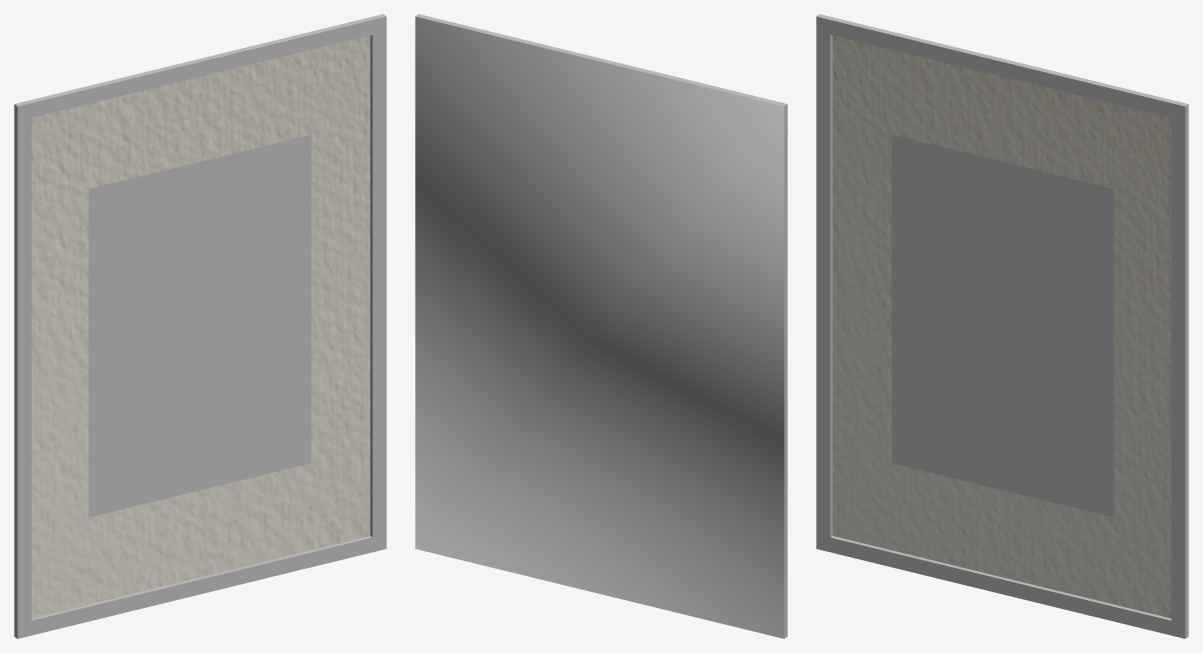
File: Quadro_4.fbx
The picture shows the model from 3 angles, left to right: view 1: azimuth 30°, elevation 25°; view 2: azimuth 150°, elevation 25°; view 3: azimuth 330°, elevation 25°; orthographic projection.
Parts seen in each view (by area): view 1: Quadro4; view 2: Quadro4; view 3: Quadro4.
Boxes of the visible parts, <box> form: Quadro4: <box>14,14,386,638</box>; Quadro4: <box>415,14,787,638</box>; Quadro4: <box>816,14,1188,638</box>.
Bounding box in the file's own units: 77.28 × 106 × 1.24.
